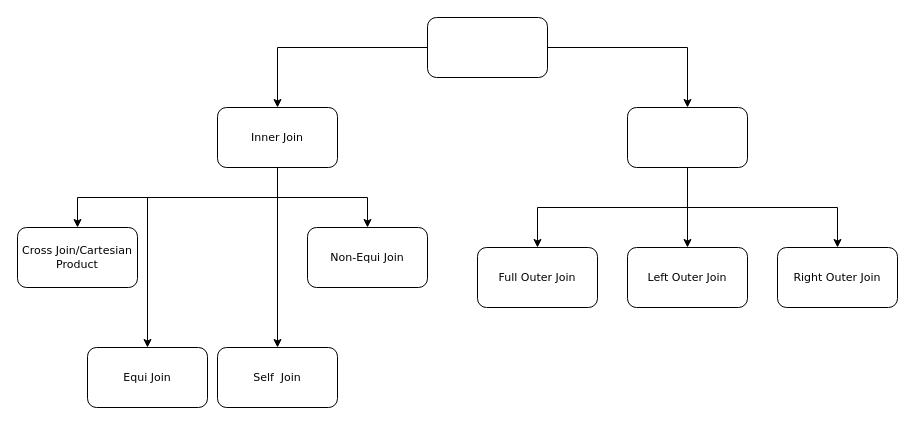
Image size: 915x425. Some labels were removed from this diagram. Each missing label, with the box of its shape:
Join: (426, 16, 548, 78)
Outer Join: (626, 106, 748, 168)
